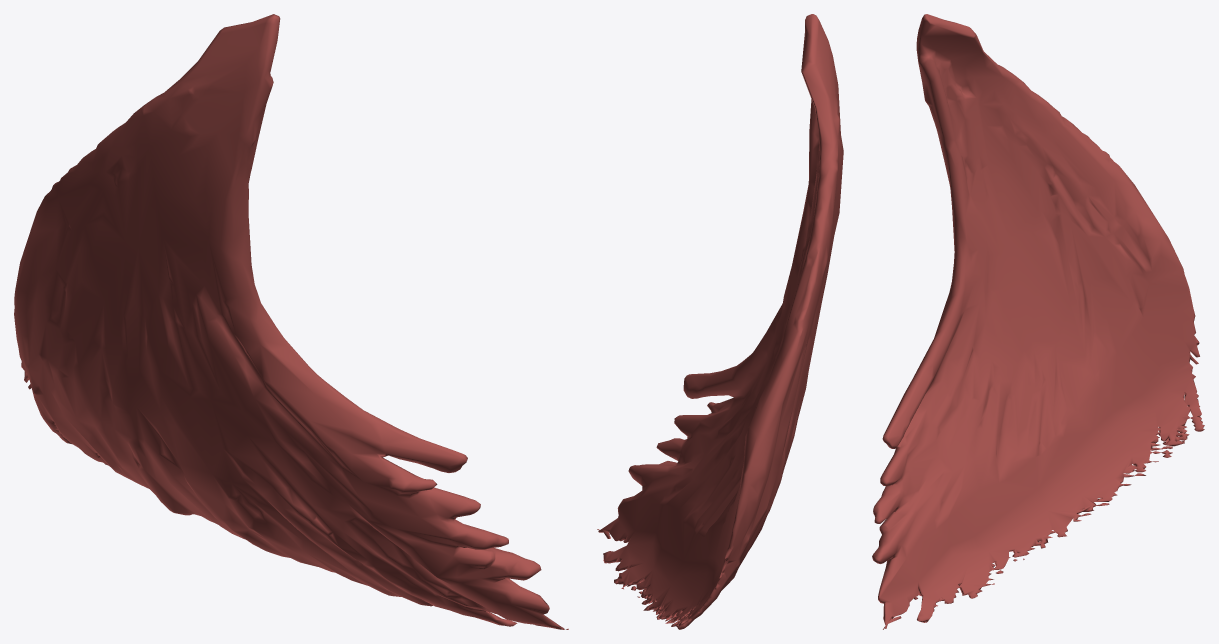
File: FMA46829.glb
3 renders of one model, left to right at view 1: azimuth 30°, elevation 25°; view 2: azimuth 150°, elevation 25°; view 3: azimuth 270°, elevation 25°, orthographic. The views are drawn at different scales.
Visible parts, largest first — view 1: FMA46829; view 2: FMA46829; view 3: FMA46829.
Part boxes in pixels (x1,y1,x2,y2): FMA46829: [14, 14, 568, 629]; FMA46829: [597, 14, 843, 629]; FMA46829: [872, 14, 1204, 629].
Bounding box in the file's own units: 0.0239 × 0.0405 × 0.0235.
